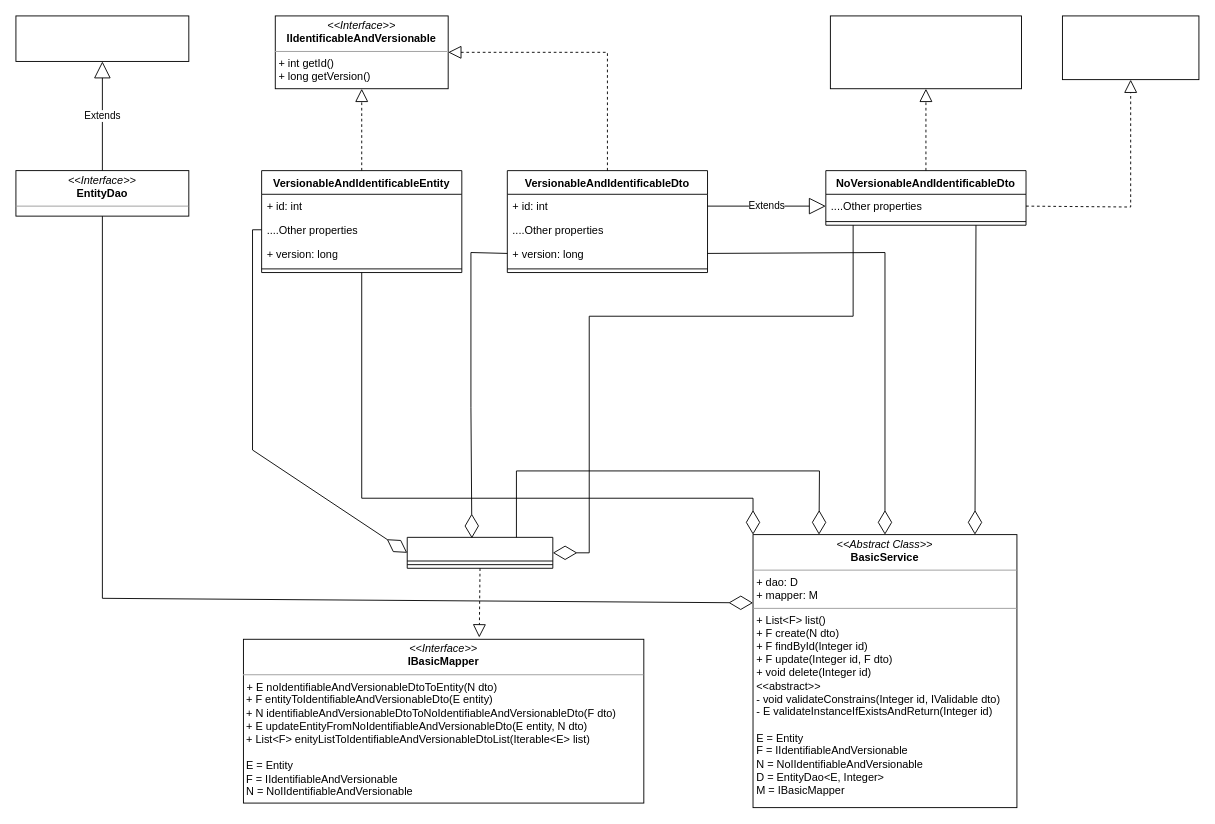
This 1215x824 diagram has some shape labels left out. Here are the shapes that lost their labels. From the top down, the centre of each, then its label:
At (x=102, y=38): "<<Interface>> CrudRepository".
At (x=925, y=52): "<<Interface>> INoIdentificableAndVersionable".
At (x=1130, y=47): "<<Interface>> IValidable + void validate()".
At (x=479, y=552): "EntityMapper".
